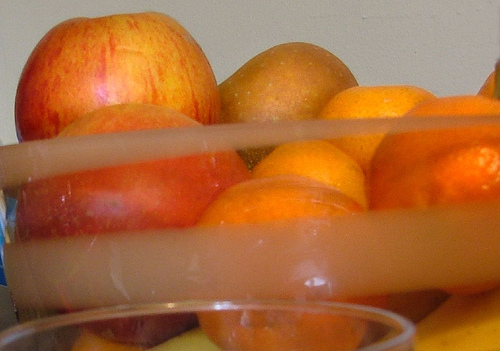apple: (13, 103, 253, 347), (12, 10, 225, 144)
